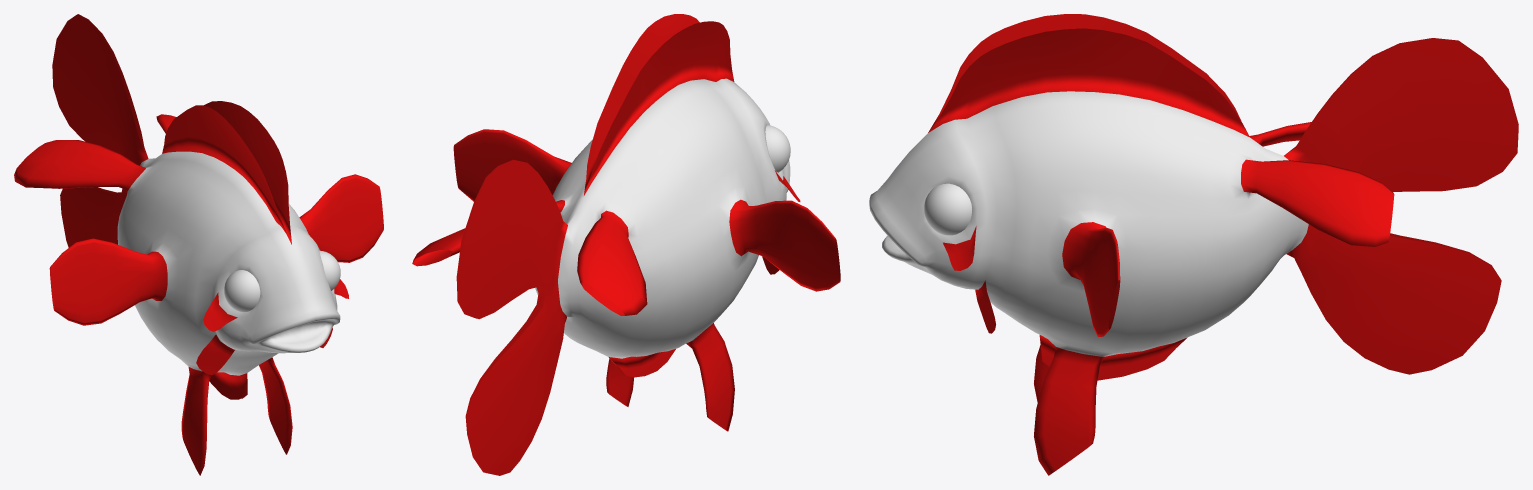
Rendered from M_Fish_01.fbx.
The picture shows the model from 3 angles, left to right: view 1: azimuth 30°, elevation 25°; view 2: azimuth 150°, elevation 25°; view 3: azimuth 270°, elevation 25°; orthographic projection. The views are drawn at different scales.
Parts seen in each view (by area): view 1: fish_01; view 2: fish_01; view 3: fish_01.
Boxes of the visible parts, box(x1,y1,x2,y2) form: fish_01: box(14, 14, 383, 475); fish_01: box(412, 14, 840, 475); fish_01: box(869, 14, 1518, 475).
Size of the model in its own units: 212 by 213 by 292.
